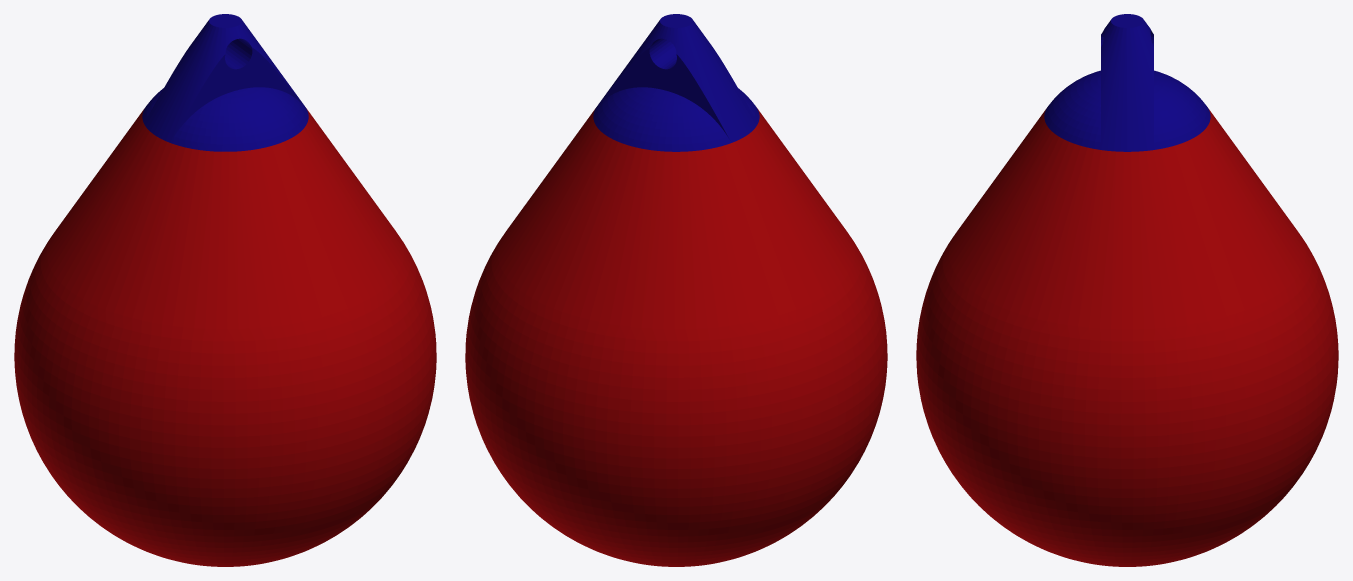
File: RedRopehold.dae
3 views of the same model, side by side, from view 1: azimuth 30°, elevation 25°; view 2: azimuth 150°, elevation 25°; view 3: azimuth 270°, elevation 25° (orthographic).
Parts seen in each view (by area): view 1: RedRopehold; view 2: RedRopehold; view 3: RedRopehold.
Boxes of the visible parts, x1=… form: RedRopehold: x1=14, y1=14, x2=436, y2=566; RedRopehold: x1=465, y1=14, x2=887, y2=566; RedRopehold: x1=916, y1=14, x2=1338, y2=566.
Bounding box in the file's own units: 203 × 203 × 279.
